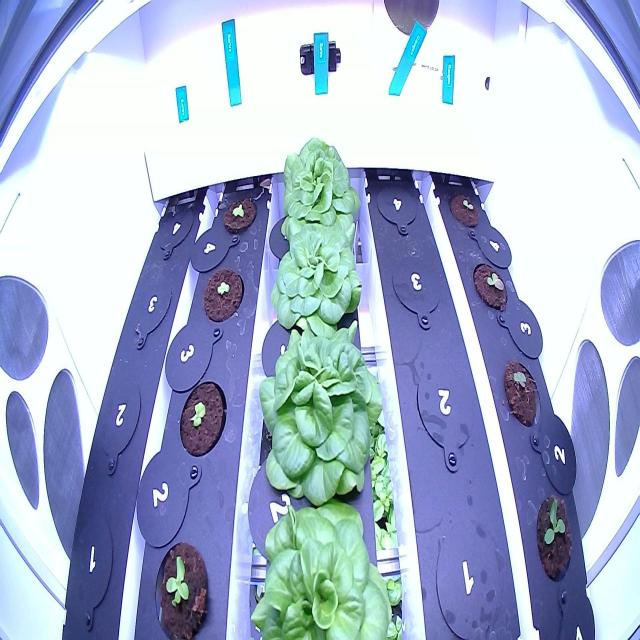empty_pod: (406, 340, 484, 478), (429, 506, 508, 639), (65, 504, 120, 622), (387, 244, 452, 333), (92, 372, 147, 456), (124, 271, 175, 342), (151, 194, 196, 265), (373, 176, 423, 237)
germination: (174, 372, 232, 462), (534, 484, 578, 590), (495, 355, 545, 433), (198, 256, 248, 330), (470, 252, 513, 316), (216, 180, 261, 236), (446, 182, 483, 232)
young: (252, 316, 398, 513), (242, 490, 406, 640), (264, 213, 371, 338), (275, 127, 366, 242), (150, 535, 215, 640)
